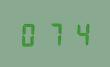four: (67, 19, 90, 46)
seven: (43, 20, 66, 46)
zero: (18, 20, 41, 47)
